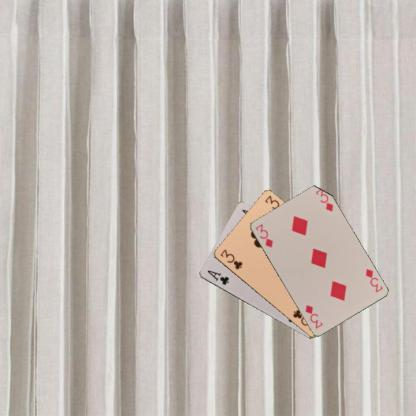3c: (217, 247, 244, 271)
3d: (252, 221, 274, 249), (362, 266, 384, 293)
Ac: (204, 268, 230, 286)
